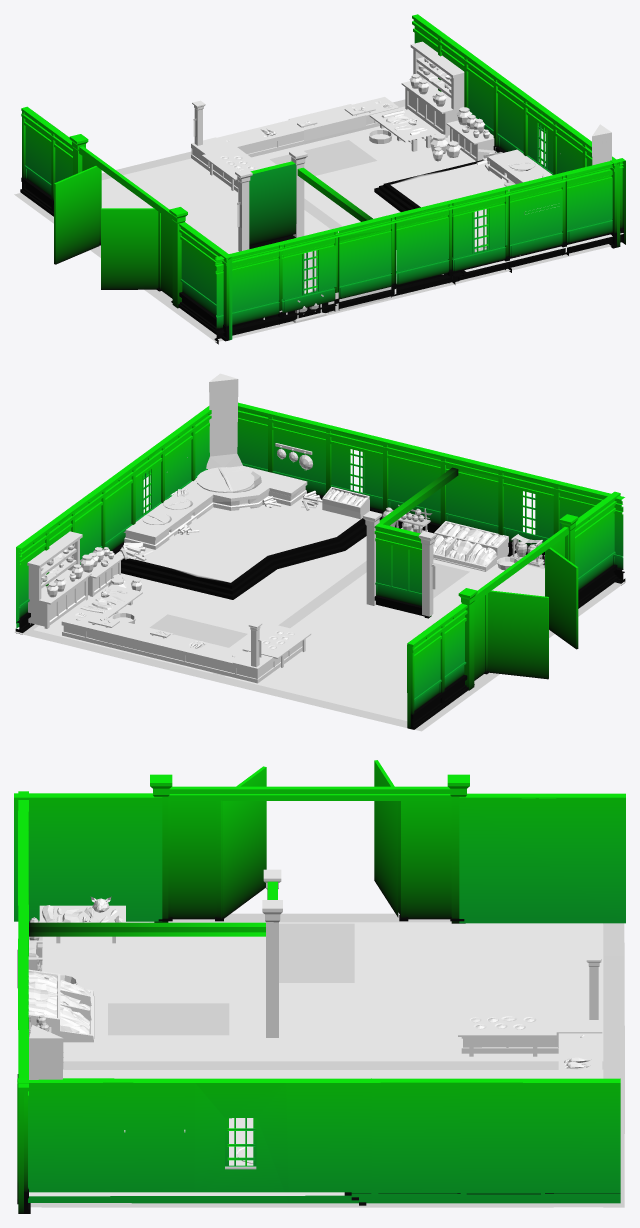
Rendered from Shop.fbx.
3 renders of one model, top to bottom at view 1: azimuth 30°, elevation 25°; view 2: azimuth 150°, elevation 25°; view 3: azimuth 270°, elevation 25°, orthographic. The views are drawn at different scales.
Parts seen in each view (by area): view 1: S_bq_ick02_1.mo, S_bq_ick02_2.mo, S_bq_ick02_4.mo, S_bq_ick03_1.mo, S_bq_ick02_3.mo, S_bq_ick03_6.mo, S_bq_ick02_5.mo, S_bq_ick03_2.mo, S_bq_ick03_3.mo, S_bq_ick03_4.mo; view 2: S_bq_ick02_4.mo, S_bq_ick02_1.mo, S_bq_ick02_2.mo, S_bq_ick03_1.mo, S_bq_ick02_5.mo, S_bq_ick03_2.mo, S_bq_ick02_3.mo, S_bq_ick03_3.mo, S_bq_ick03_6.mo, S_bq_ick03_4.mo, S_bq_ick03_5.mo; view 3: S_bq_ick02_3.mo, S_bq_ick02_4.mo, S_bq_ick02_2.mo, S_bq_ick03_4.mo, S_bq_ick03_1.mo, S_bq_ick03_3.mo, S_bq_ick02_1.mo, S_bq_ick03_6.mo, S_bq_ick03_2.mo, S_bq_ick02_5.mo, S_bq_ick03_5.mo.
Part boxes in pixels (x1,y1,x2,y2): S_bq_ick02_1.mo: (214,158,625,344); S_bq_ick02_2.mo: (20,106,232,341); S_bq_ick02_4.mo: (14,99,611,342); S_bq_ick03_1.mo: (191,41,496,192); S_bq_ick02_3.mo: (412,14,620,248); S_bq_ick03_6.mo: (249,161,372,248); S_bq_ick02_5.mo: (374,160,623,284); S_bq_ick03_2.mo: (474,124,611,255); S_bq_ick03_3.mo: (235,149,391,313); S_bq_ick03_4.mo: (270,140,376,289); S_bq_ick02_4.mo: (14,536,625,731); S_bq_ick02_1.mo: (237,402,625,585); S_bq_ick02_2.mo: (407,491,620,729); S_bq_ick03_1.mo: (27,531,311,683); S_bq_ick02_5.mo: (115,487,366,599); S_bq_ick03_2.mo: (118,373,369,561); S_bq_ick02_3.mo: (15,406,211,634); S_bq_ick03_3.mo: (363,511,518,616); S_bq_ick03_6.mo: (374,467,458,618); S_bq_ick03_4.mo: (149,563,469,647); S_bq_ick03_5.mo: (382,505,544,567); S_bq_ick02_3.mo: (17,1078,620,1204); S_bq_ick02_4.mo: (30,913,624,1207); S_bq_ick02_2.mo: (14,760,625,923); S_bq_ick03_4.mo: (108,923,354,1035); S_bq_ick03_1.mo: (458,954,602,1078); S_bq_ick03_3.mo: (28,869,282,1042); S_bq_ick02_1.mo: (17,791,30,1213); S_bq_ick03_6.mo: (29,881,277,936); S_bq_ick03_2.mo: (29,1025,256,1169); S_bq_ick02_5.mo: (29,1118,366,1205); S_bq_ick03_5.mo: (28,917,63,1062).
Size of what is drawn, in the model's own units: 2046 by 505 by 1608.
